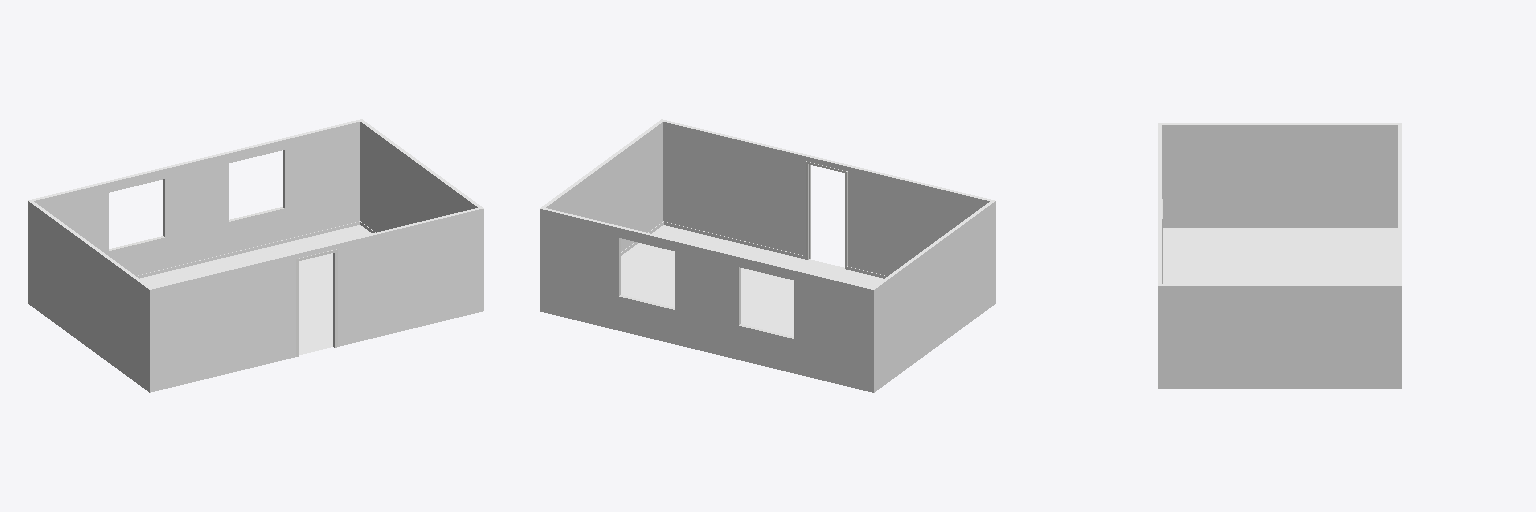
File: room_rect.obj
The picture shows the model from 3 angles: view 1: azimuth 30°, elevation 25°; view 2: azimuth 150°, elevation 25°; view 3: azimuth 270°, elevation 25°; orthographic projection.
Visible parts, largest first — view 1: room_rect; view 2: room_rect; view 3: room_rect.
Part boxes in pixels (x1,y1,x2,y2): room_rect: (28, 119, 483, 392); room_rect: (540, 119, 995, 392); room_rect: (1158, 123, 1401, 388).
Size of the model in its own units: 9.98 by 2.93 by 6.33.